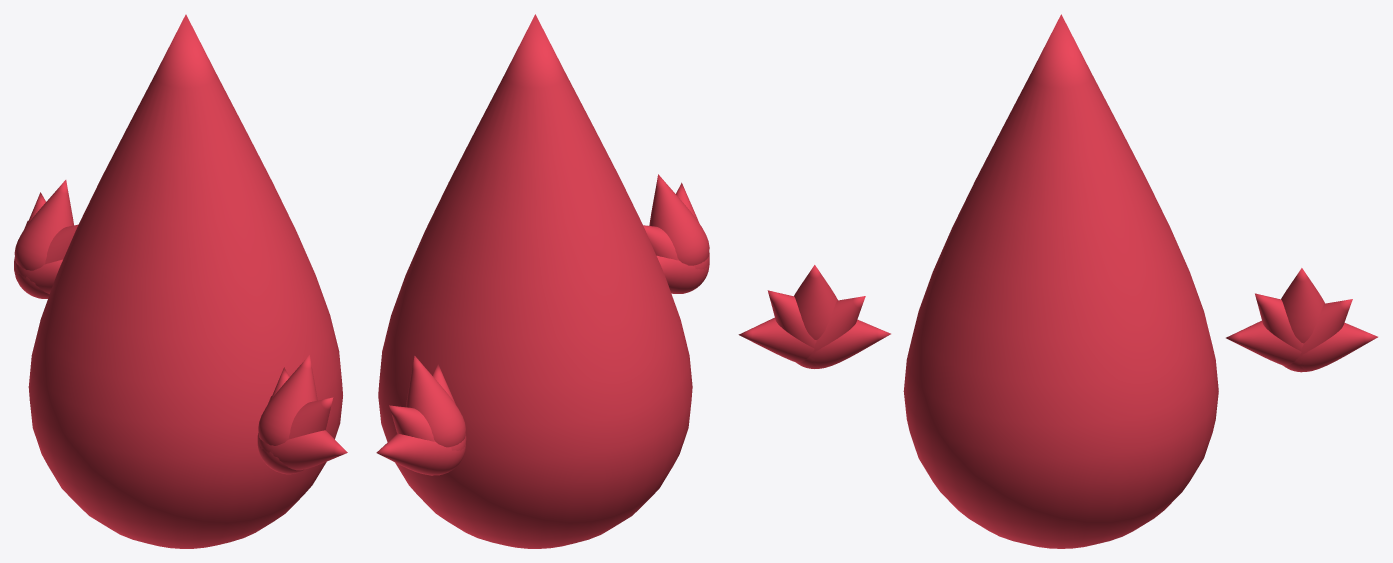
Rendered from _FireSpirit_Normal.glb.
The picture shows the model from 3 angles, left to right: view 1: azimuth 30°, elevation 25°; view 2: azimuth 150°, elevation 25°; view 3: azimuth 270°, elevation 25°; orthographic projection.
Parts seen in each view (by area): view 1: Sphere, Sphere.003, Sphere.001; view 2: Sphere, Sphere.001, Sphere.003; view 3: Sphere, Sphere.003, Sphere.001.
Part boxes in pixels (left/top/right/bottom): Sphere: left=28, top=14, right=342, bottom=548; Sphere.003: left=257, top=355, right=347, bottom=474; Sphere.001: left=14, top=180, right=77, bottom=298; Sphere: left=378, top=14, right=692, bottom=548; Sphere.001: left=376, top=356, right=466, bottom=475; Sphere.003: left=643, top=174, right=709, bottom=293; Sphere: left=903, top=14, right=1218, bottom=548; Sphere.003: left=738, top=265, right=890, bottom=368; Sphere.001: left=1226, top=268, right=1377, bottom=372.
Size of the model in its own units: 10.27 by 18.72 by 20.88.
